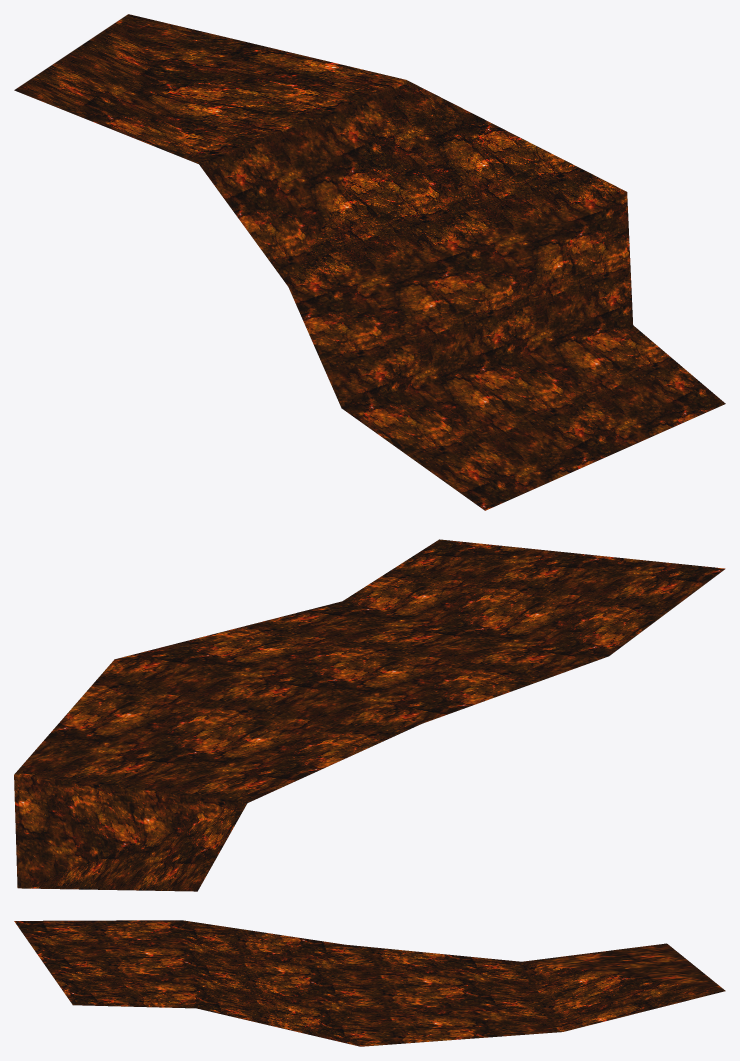
The model's file is water04.fbx.
3 views of the same model, one above another, from view 1: azimuth 30°, elevation 25°; view 2: azimuth 150°, elevation 25°; view 3: azimuth 270°, elevation 25° (orthographic). The views are drawn at different scales.
Visible parts, largest first — view 1: water4; view 2: water4; view 3: water4.
Part boxes in pixels (x1,y1,x2,y2): water4: (14,14,725,510); water4: (14,539,725,891); water4: (14,920,725,1046).
Size of the model in its own units: 2744 by 0 by 6522.
